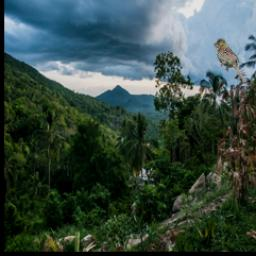Sparrow: (212, 37, 245, 84)
